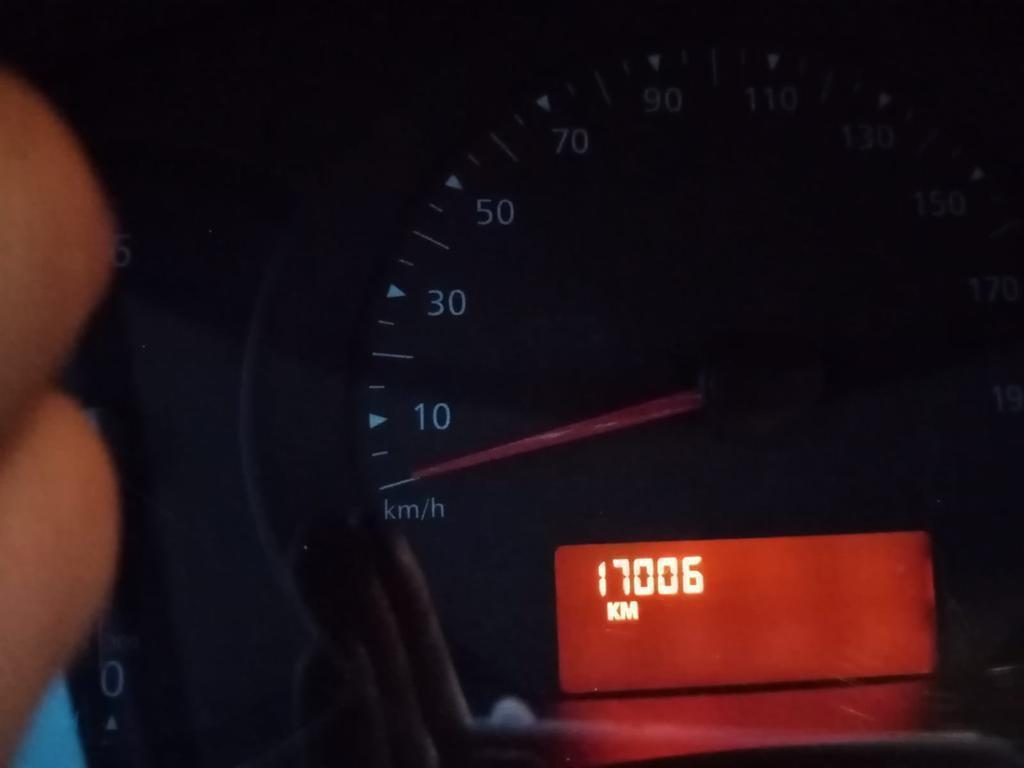0: (632, 557, 655, 595), (656, 556, 678, 595)
1: (597, 558, 608, 597)
6: (681, 555, 703, 595)
7: (611, 558, 631, 595)
X: (621, 600, 639, 620), (606, 600, 621, 620)
odometer: (547, 527, 951, 697)
